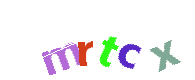C: (68, 0, 148, 80)
M: (43, 0, 123, 80)
R: (44, 0, 124, 80)
T: (56, 0, 136, 80)
X: (114, 0, 194, 80)
